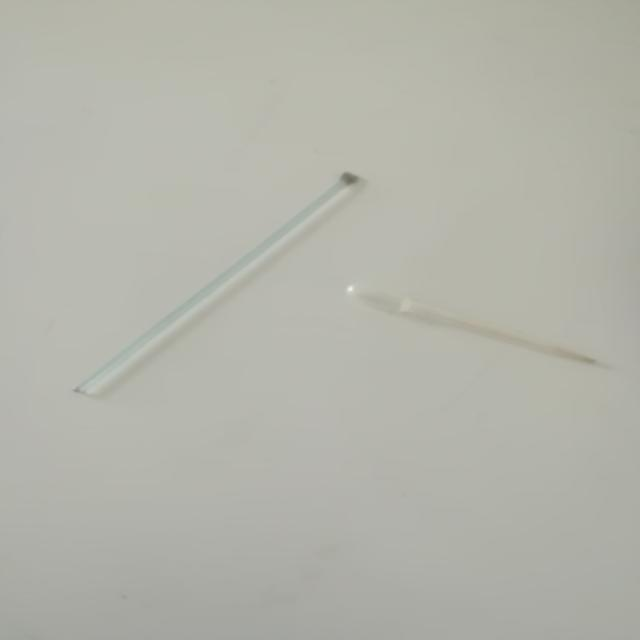Glass_Rod: (29, 154, 420, 406)
Pipette: (338, 256, 611, 392)
